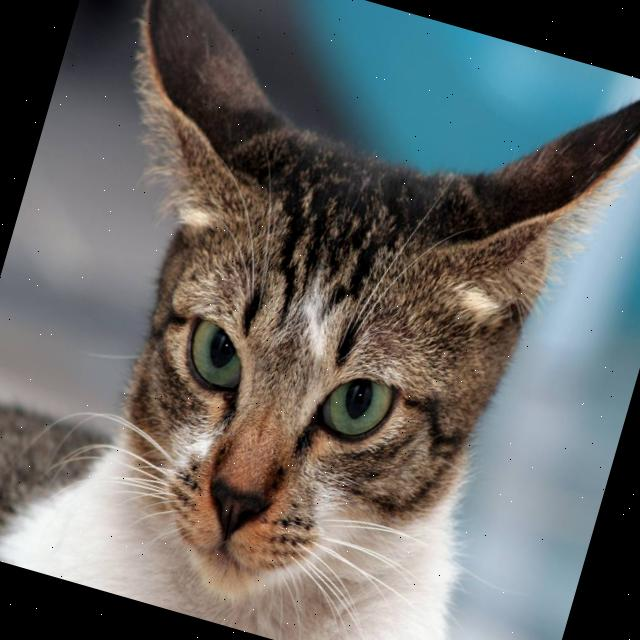cat-eye-normal: (297, 350, 415, 468), (161, 299, 269, 419)
